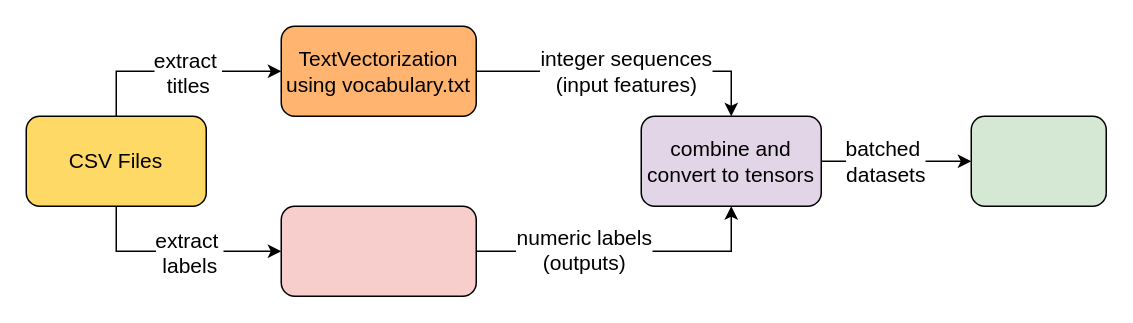
The diagram is 1133 pixels wide and 323 high, and some of its shapes have lost their labels. Each missing label, with the centre of its shape:
"model" goes at (1038,160).
"StringLookup using labels.txt" goes at (378,250).
